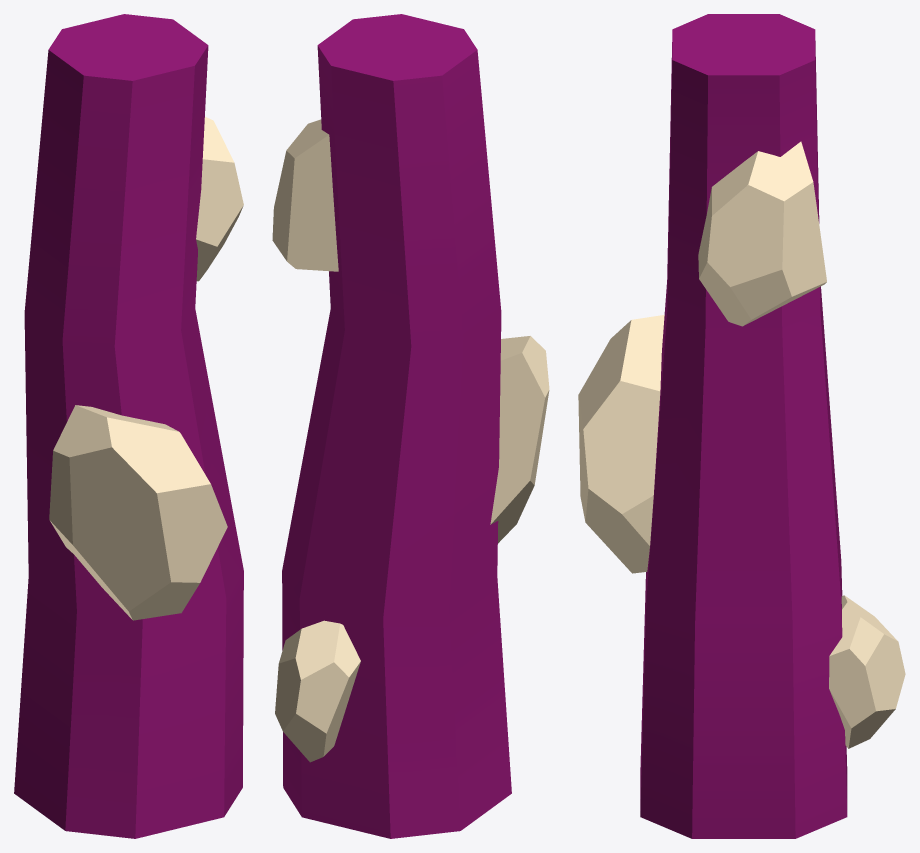
The model's file is 007_Diamond.fbx.
The picture shows the model from 3 angles, left to right: view 1: azimuth 30°, elevation 25°; view 2: azimuth 150°, elevation 25°; view 3: azimuth 270°, elevation 25°; orthographic projection.
Visible parts, largest first — view 1: DIAMOND; view 2: DIAMOND; view 3: DIAMOND.
Part boxes in pixels (x1,y1,x2,y2): DIAMOND: [14, 14, 243, 838]; DIAMOND: [272, 14, 549, 838]; DIAMOND: [578, 14, 905, 838].
Size of the model in its own units: 30.44 by 100 by 39.51.
